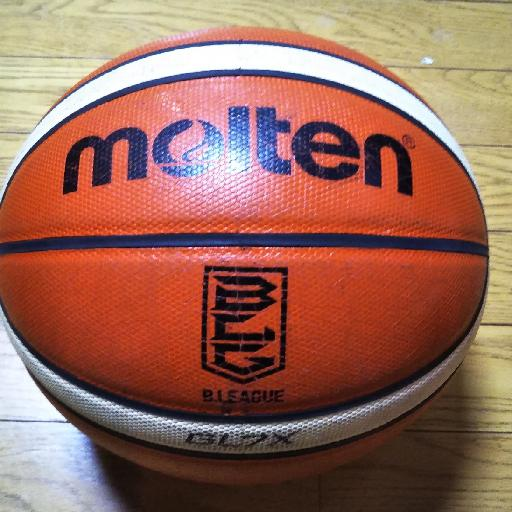ball: (1, 28, 486, 488)
